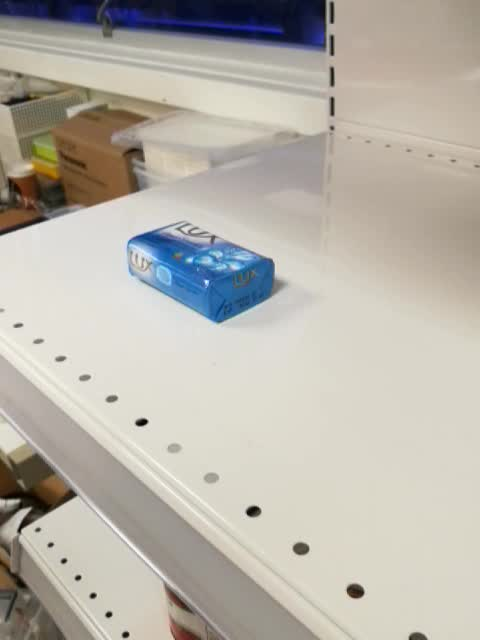soap: (127, 221, 276, 324)
